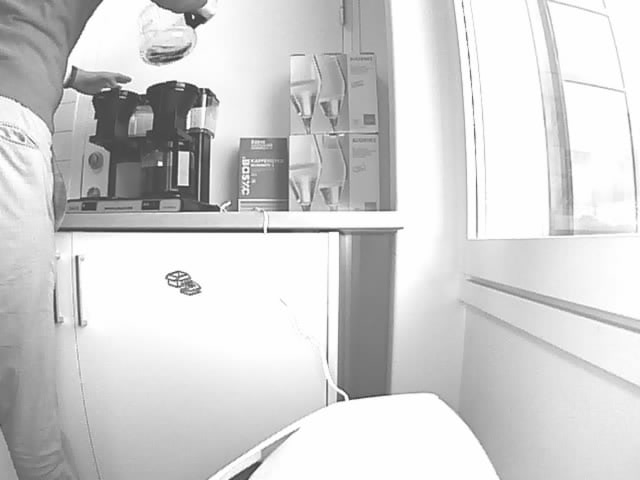not empty coffee: (135, 136, 202, 201)
